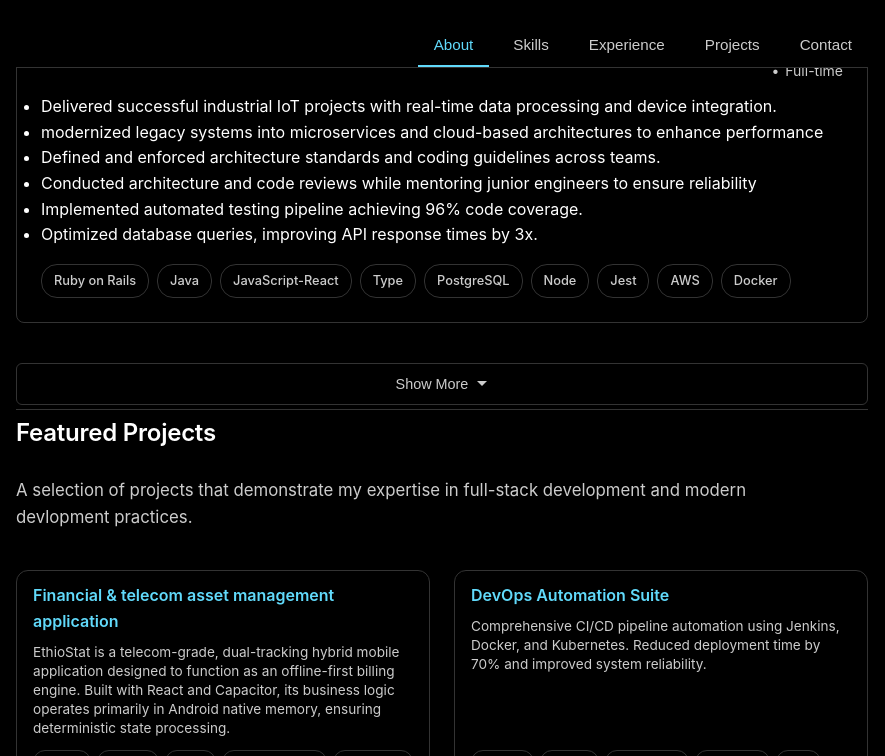
Scenario: App Component › displays experience items with correct details
The image size is (885, 756).
(page scrolled)
Expected: the element with test id "experience-item" shows "Freiburg, Germany", [720,35,843,52]
Expected: the element with test id "experience-item" shows "Full-time", [785,62,843,79]
Click the button "Show More".
click(442, 384)  # box [16,363,868,405]
(page scrolled)
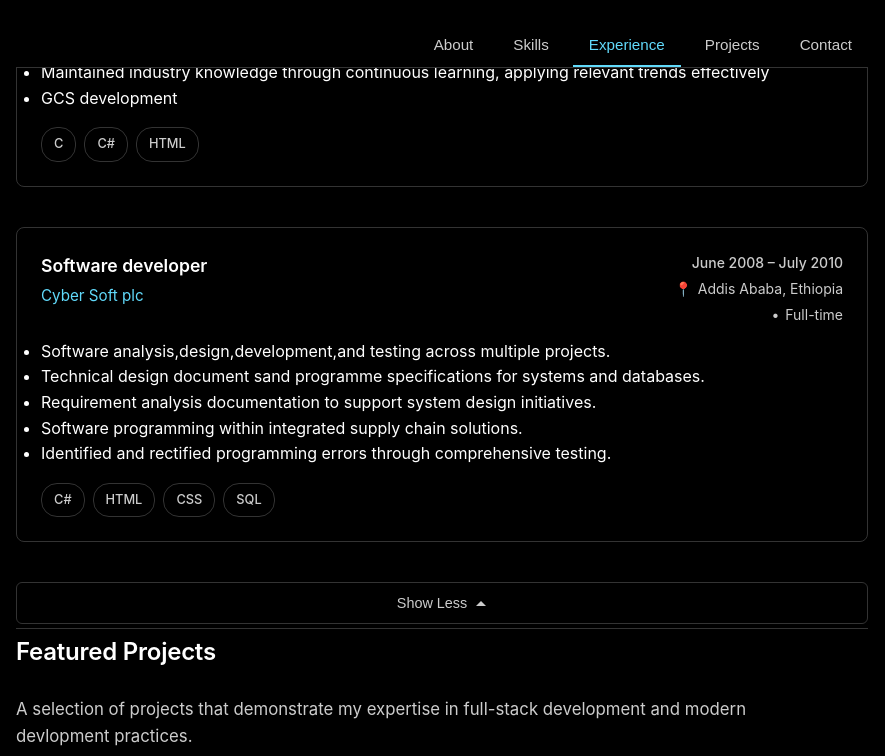
Expected: the element with test id "experience-item" shows "Produced technical design documentation and detailed program specifications", [41,36,636,56]
Expected: the element with test id "experience-item" shows "Maintained industry knowledge through continuous learning, applying relevant trends effectively", [41,62,770,82]
Expected: the element with test id "experience-item" shows "GCS development", [41,88,178,108]
